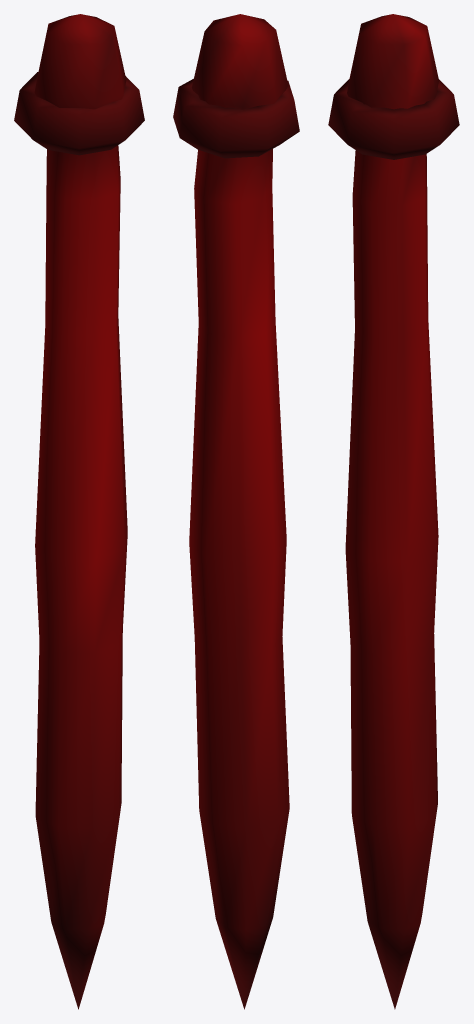
Rendered from WoodenTorch002.glb.
The picture shows the model from 3 angles, left to right: view 1: azimuth 90°, elevation 25°; view 2: azimuth 210°, elevation 25°; view 3: azimuth 270°, elevation 25°; orthographic projection.
Visible parts, largest first — view 1: WoodenTorch002; view 2: WoodenTorch002; view 3: WoodenTorch002.
Part boxes in pixels (left/top/right/bottom): WoodenTorch002: left=14, top=14, right=144, bottom=1009; WoodenTorch002: left=173, top=14, right=299, bottom=1009; WoodenTorch002: left=328, top=14, right=459, bottom=1009.
Bounding box in the file's own units: 1.08 × 9.06 × 1.08.
